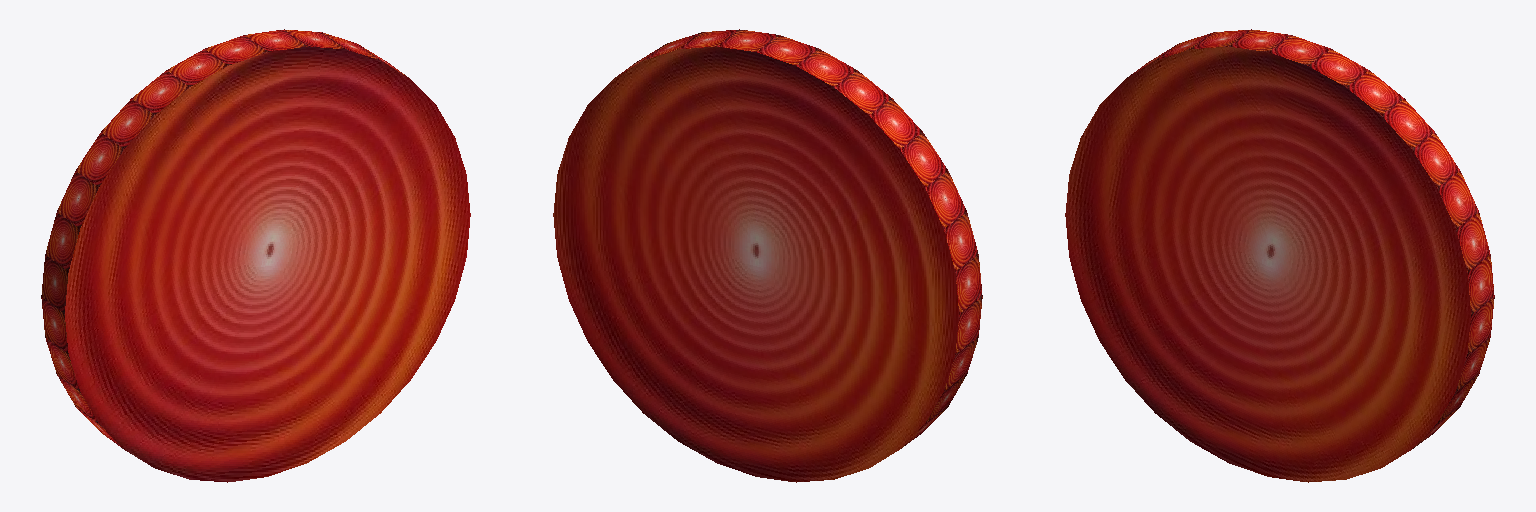
3 renders of one model, left to right at view 1: azimuth 30°, elevation 25°; view 2: azimuth 150°, elevation 25°; view 3: azimuth 330°, elevation 25°, orthographic.
Parts seen in each view (by area): view 1: Cylinder; view 2: Cylinder; view 3: Cylinder.
Part boxes in pixels (x1,y1,x2,y2): Cylinder: (41, 29, 470, 482); Cylinder: (553, 29, 982, 482); Cylinder: (1065, 29, 1494, 482).
Bounding box in the file's own units: 20 × 20 × 2.
Materials: 1 (1 with a texture image).